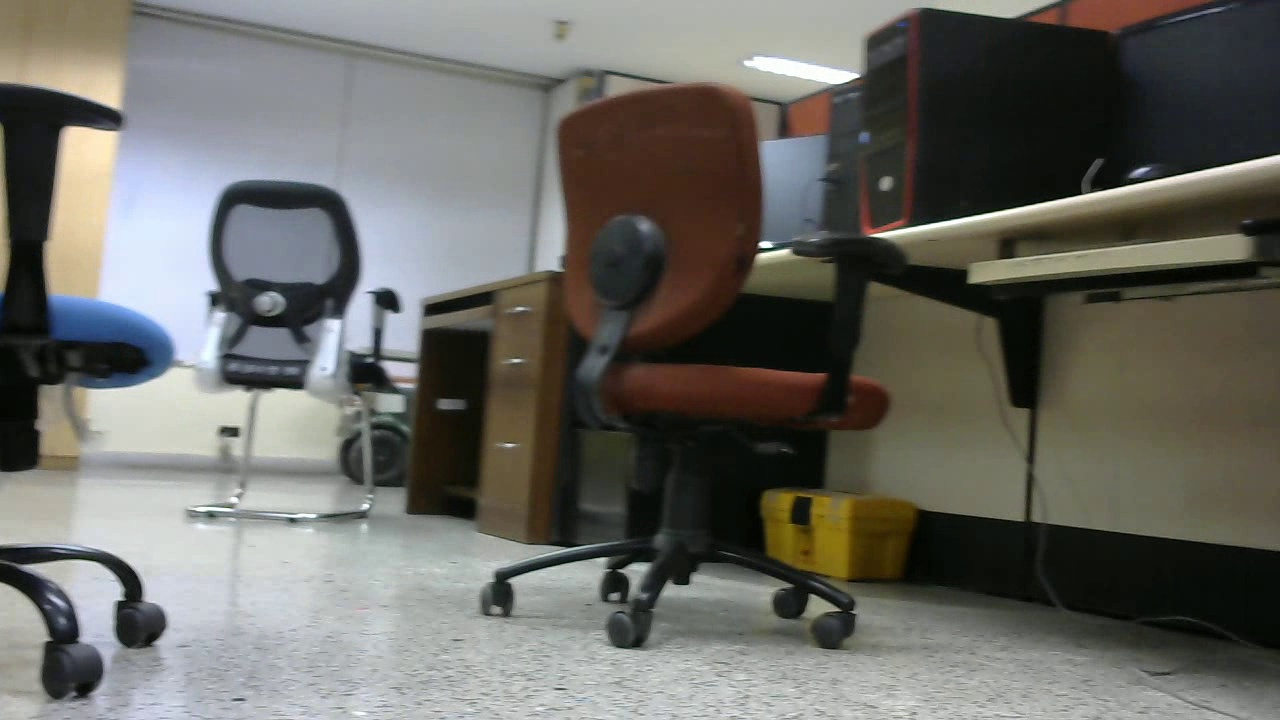chair: (508, 108, 872, 656), (199, 185, 382, 520)
